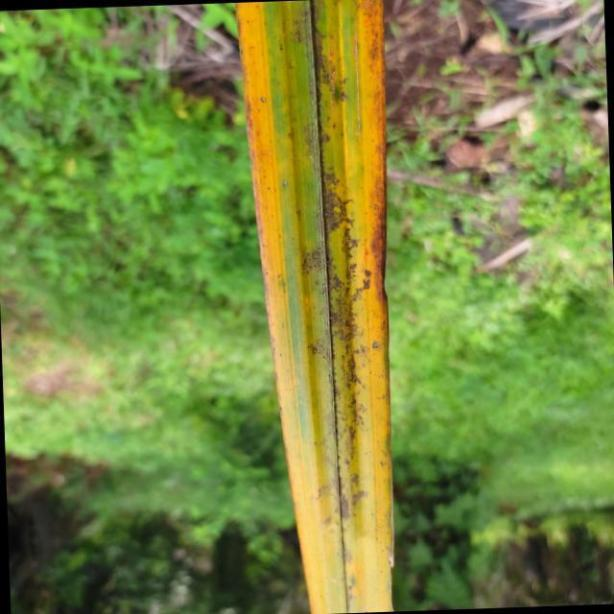Megnesium: (234, 0, 398, 614)
